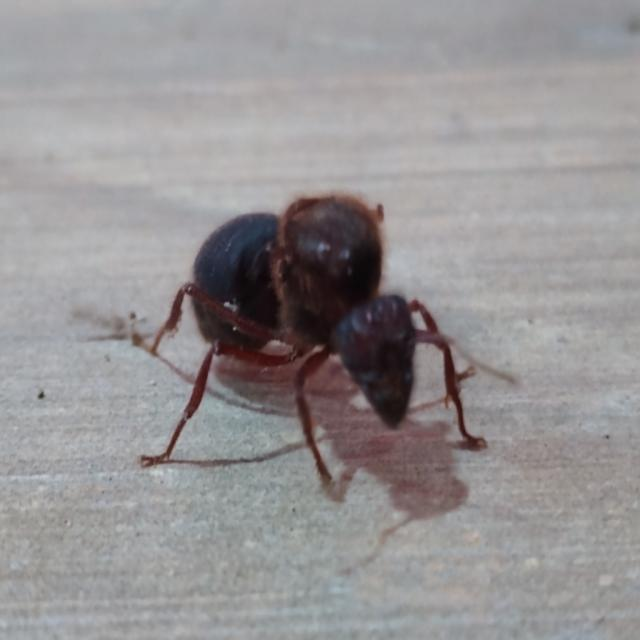Alive-Female-Dealate: (131, 186, 524, 482)
